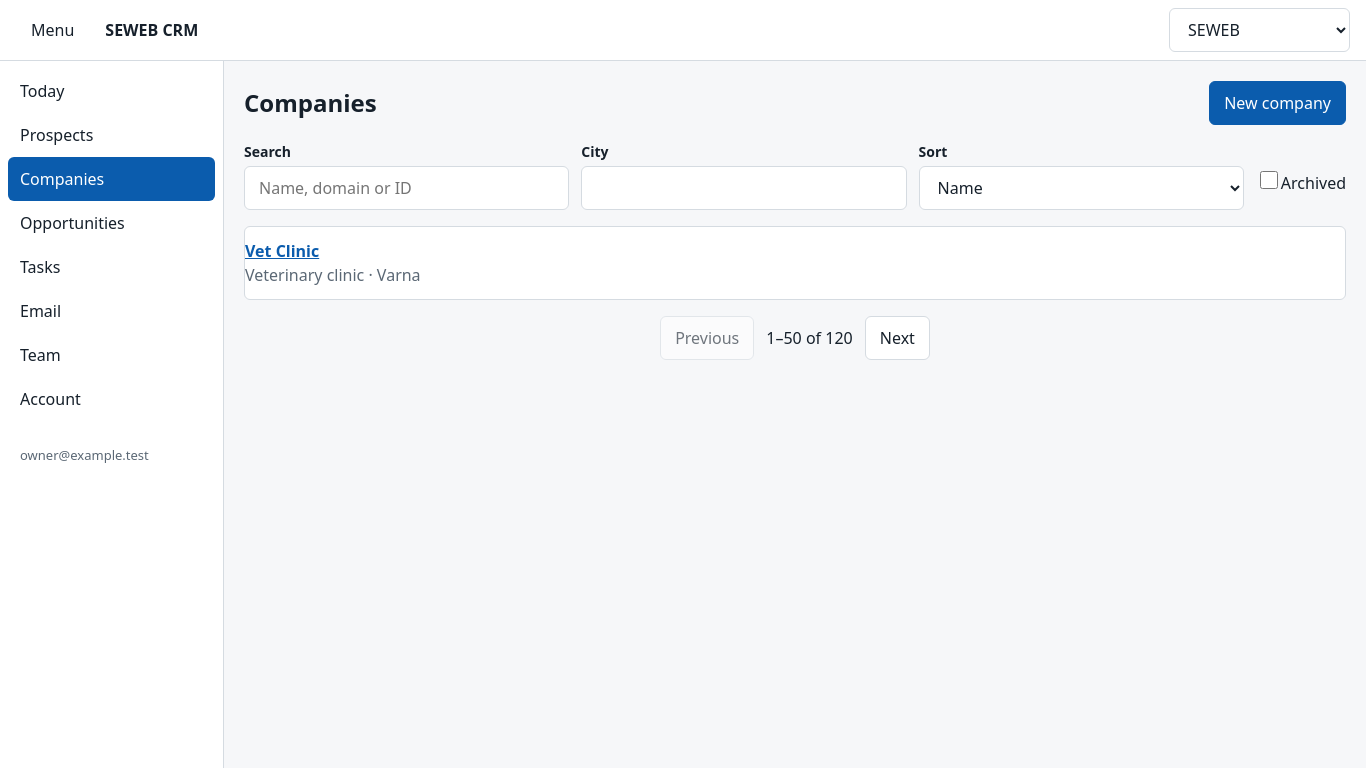
Test: companies list › sends filters to the server and pages through results
Expected: the link "Vet Clinic" is shown, [245,240,319,262]
Expected: the text "1–50 of 120" is shown, [766,326,853,350]
Click the button "Next".
click(897, 338)  # box [865,316,930,360]
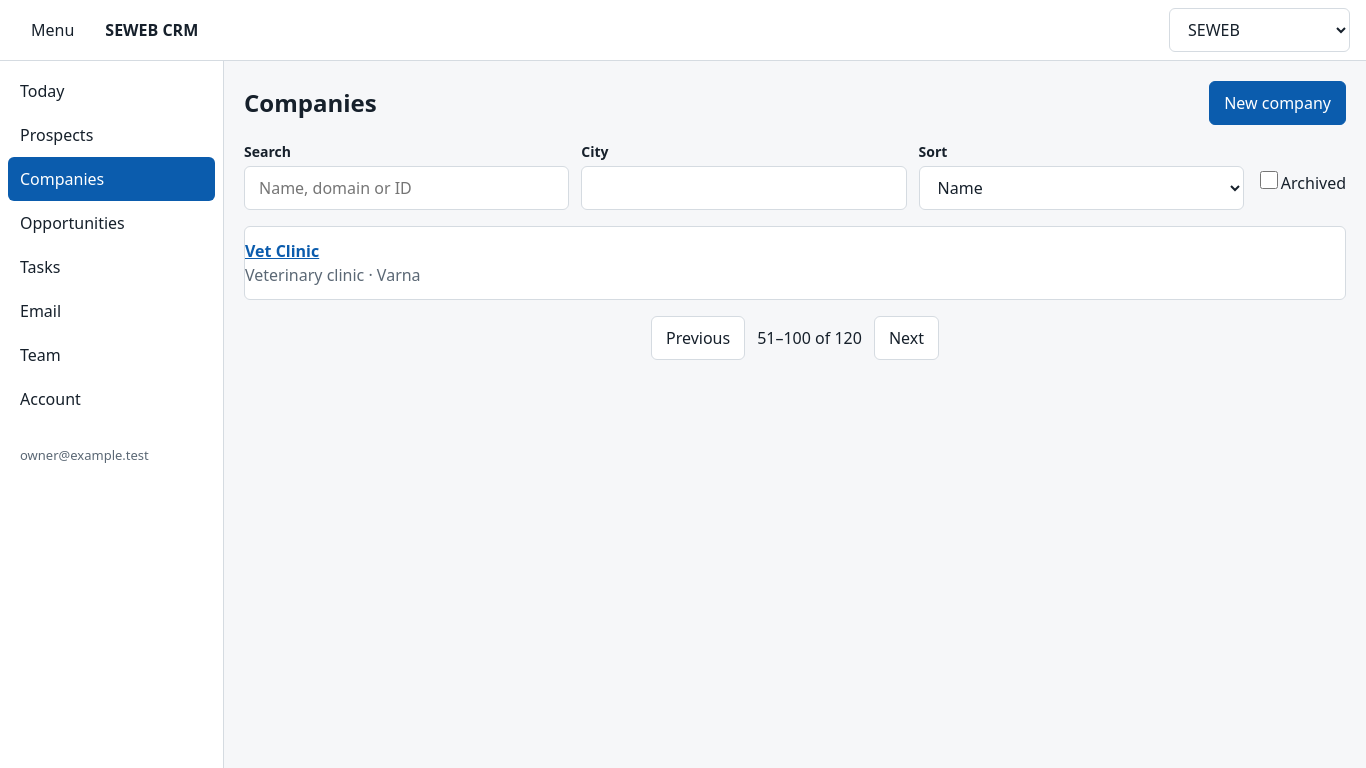
Expected: the text "51–100 of 120" is shown, [757,326,862,350]
Type "vet" into the search field labelled "Search".
click(407, 188); type("vet")  # box [244,166,569,210]
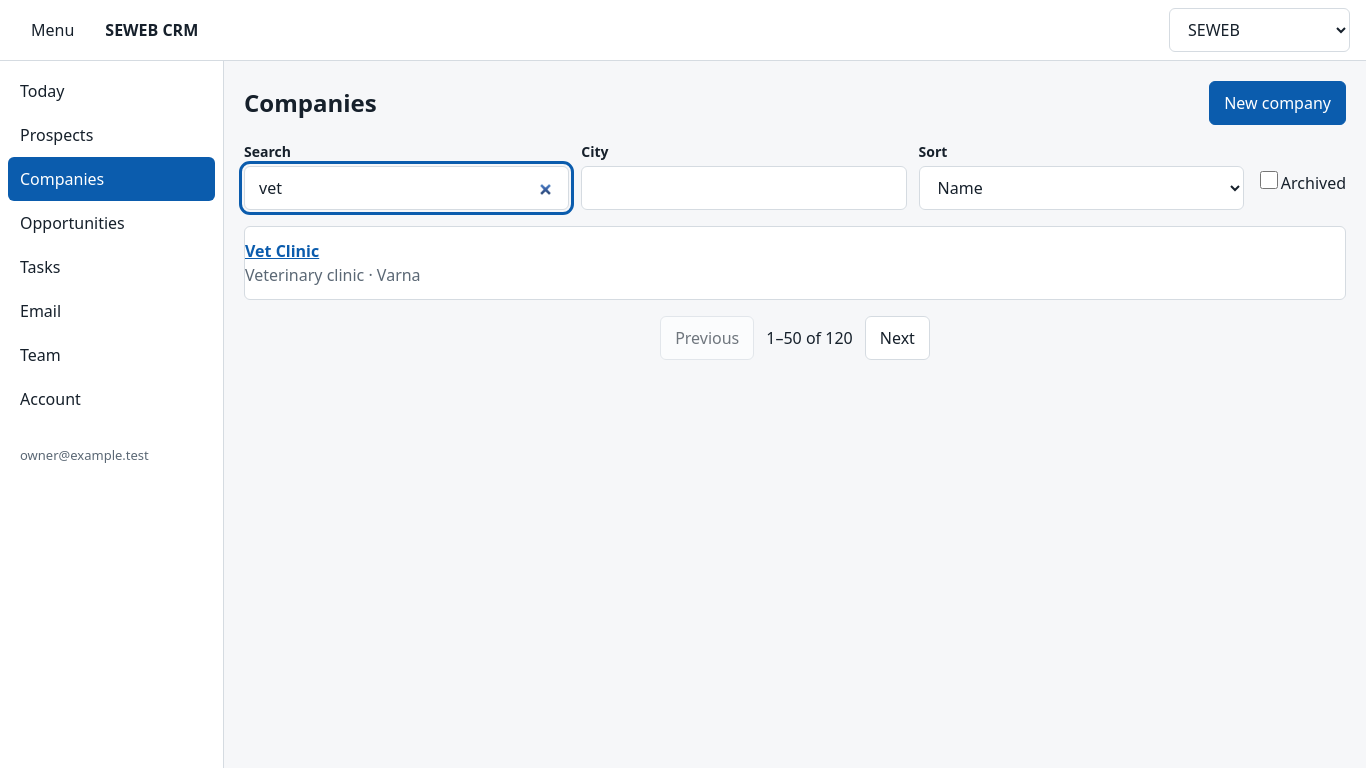
Expected: the text "1–50 of 120" is shown, [766,326,853,350]
